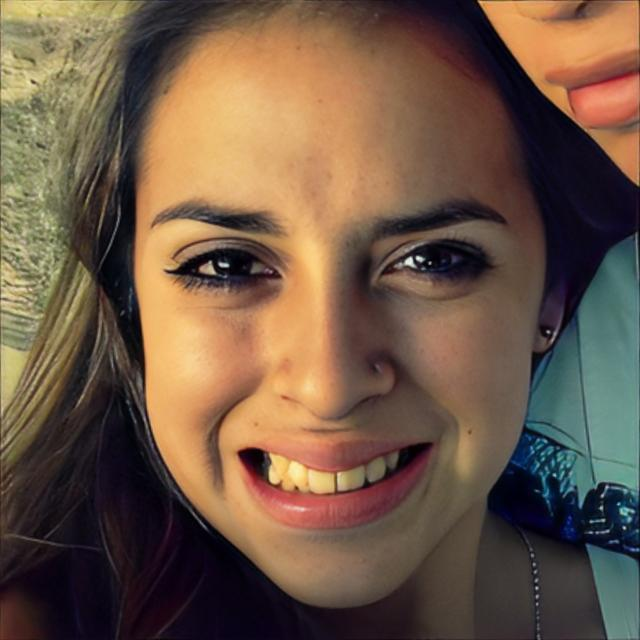happy: (130, 31, 534, 608)
